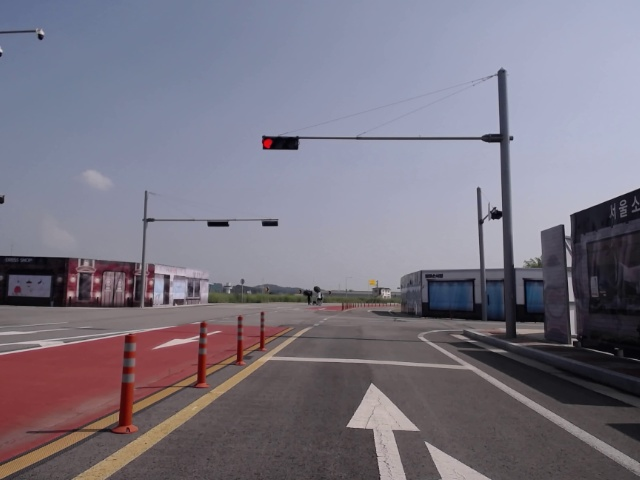red_3: (261, 137, 298, 150)
